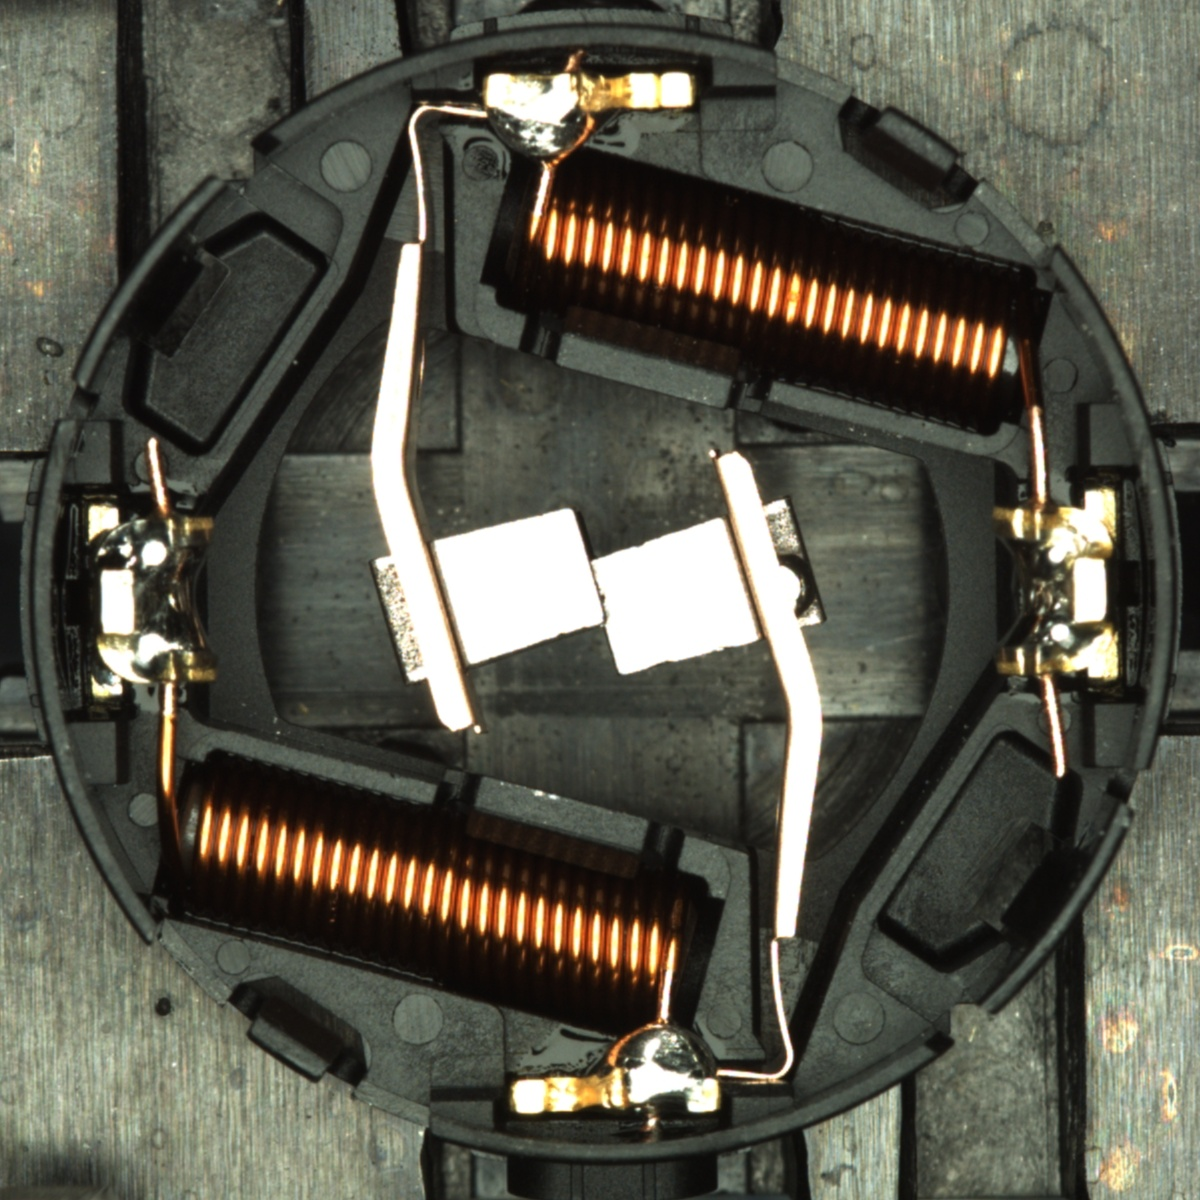1: (258, 55, 487, 279), (716, 953, 945, 1177)
2: (716, 55, 945, 279), (258, 953, 487, 1177)
3: (28, 279, 258, 504), (945, 728, 1175, 953)
4: (258, 279, 487, 504), (716, 728, 945, 953)
5: (487, 167, 716, 392), (487, 840, 716, 1065)
6: (716, 279, 945, 504), (258, 728, 487, 953)
7: (945, 279, 1175, 504), (28, 728, 258, 953)
chau_dien: (81, 498, 222, 701), (985, 488, 1124, 686)
hat_chi: (776, 554, 817, 618)
tay_choi: (481, 69, 700, 171), (509, 1019, 722, 1117)
thanh_de: (58, 164, 245, 405), (955, 788, 1141, 1030)
